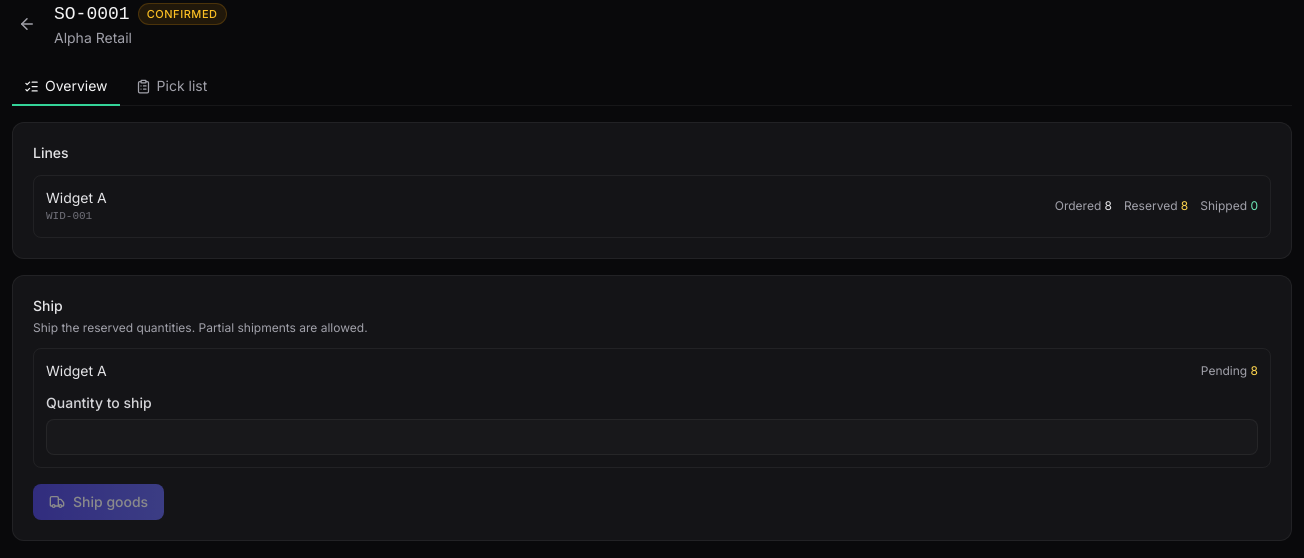
Test: SalesOrderView › switches to the printable pick-list tab
This screenshot has width=1304, height=558.
Click the button with test id "tab-pick" at (171, 87), box [124,68,219,106]
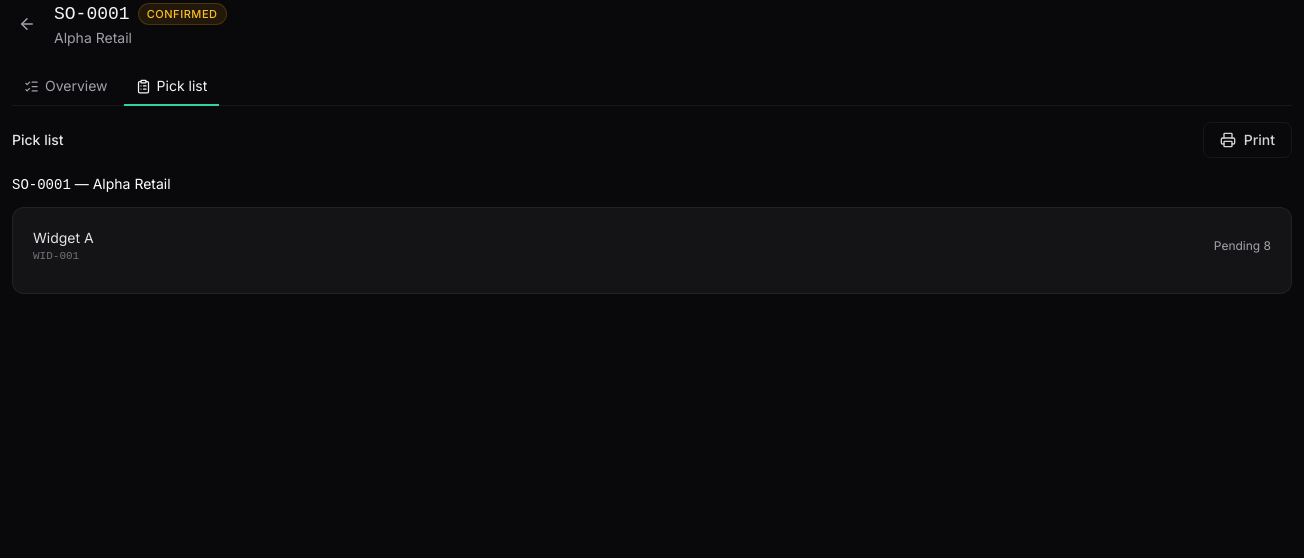
Now the element with test id "pick-line-line-001" is shown, box [12,207,1292,294]
